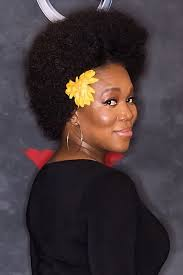black_female: (60, 54, 141, 159)
